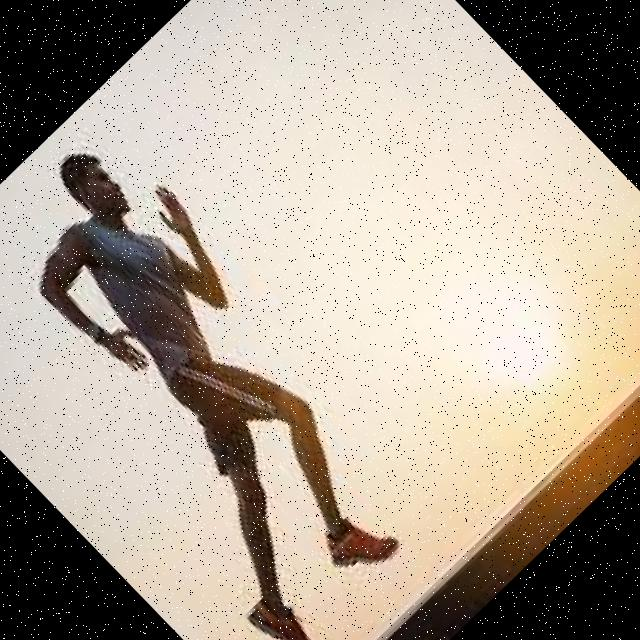Person: (0, 121, 479, 640)
